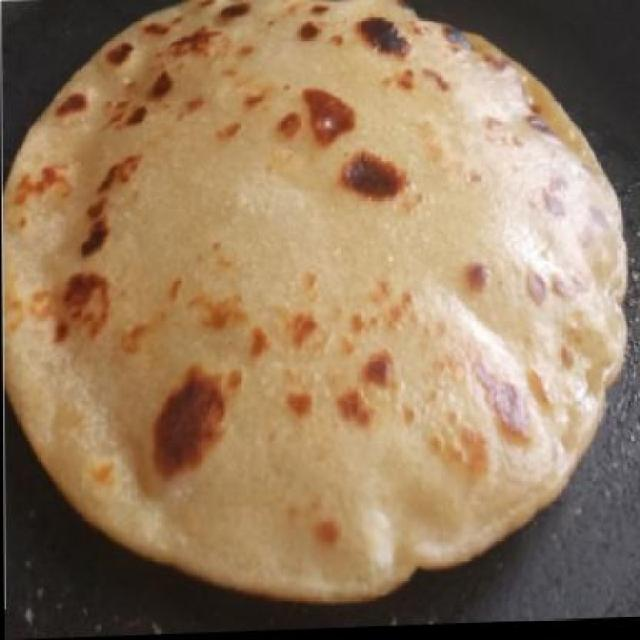chapati: (0, 0, 629, 611)
